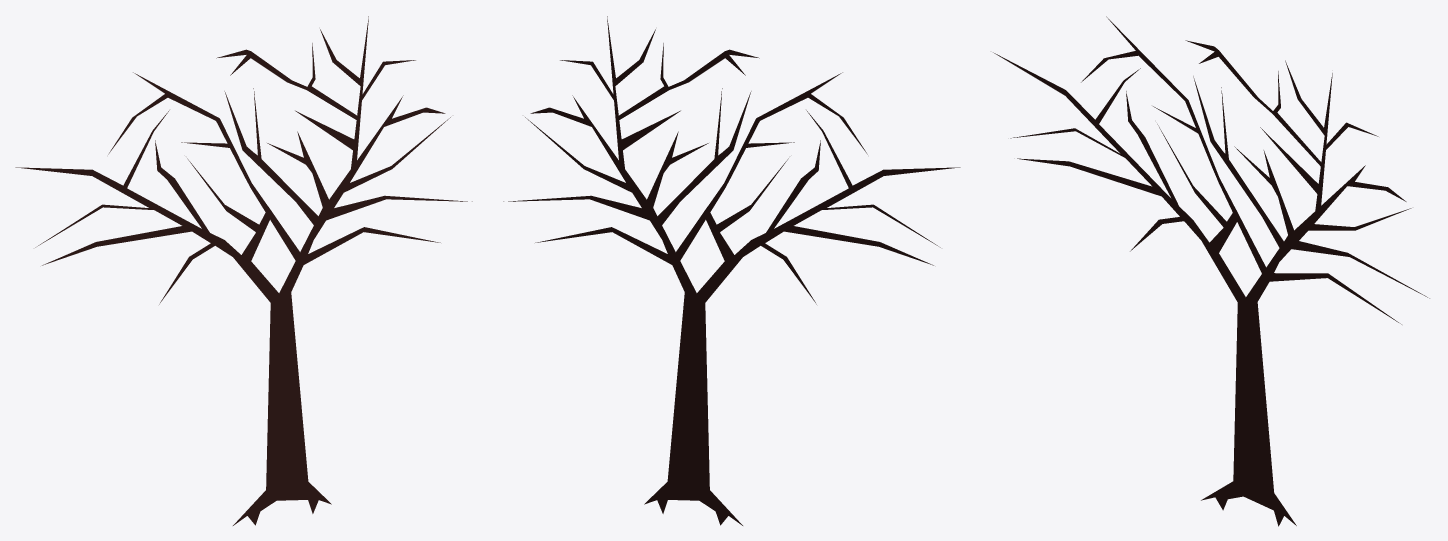
Rendered from CherryTree_02.fbx.
3 renders of one model, left to right at view 1: azimuth 30°, elevation 25°; view 2: azimuth 150°, elevation 25°; view 3: azimuth 330°, elevation 25°, orthographic. The views are drawn at different scales.
Visible parts, largest first — view 1: planarTrimmedSurface1; view 2: planarTrimmedSurface1; view 3: planarTrimmedSurface1.
Part boxes in pixels (bbox=[...]): planarTrimmedSurface1: bbox=[15, 16, 472, 525]; planarTrimmedSurface1: bbox=[503, 16, 960, 525]; planarTrimmedSurface1: bbox=[993, 16, 1429, 526].
Bounding box in the file's own units: 14.98 × 15.17 × 0.
1 material, 1 textured.
